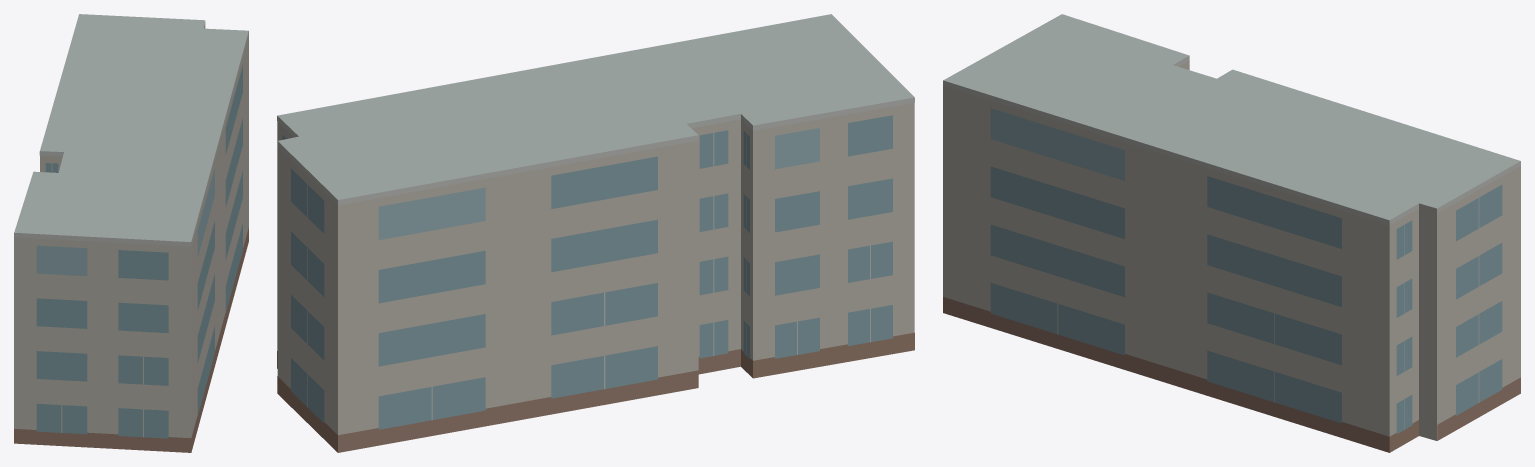
The model's file is survey-upis-32971049.glb.
3 views of the same model, side by side, from view 1: azimuth 30°, elevation 25°; view 2: azimuth 150°, elevation 25°; view 3: azimuth 270°, elevation 25° (orthographic). The views are drawn at different scales.
Visible parts, largest first — view 1: survey-upis-32971049.tmp; view 2: survey-upis-32971049.tmp; view 3: survey-upis-32971049.tmp.
Boxes of the visible parts, x1=… form: survey-upis-32971049.tmp: x1=14, y1=14, x2=248, y2=452; survey-upis-32971049.tmp: x1=277, y1=14, x2=914, y2=452; survey-upis-32971049.tmp: x1=943, y1=14, x2=1520, y2=452.
Size of the model in its own units: 21.89 by 11.5 by 25.9.
